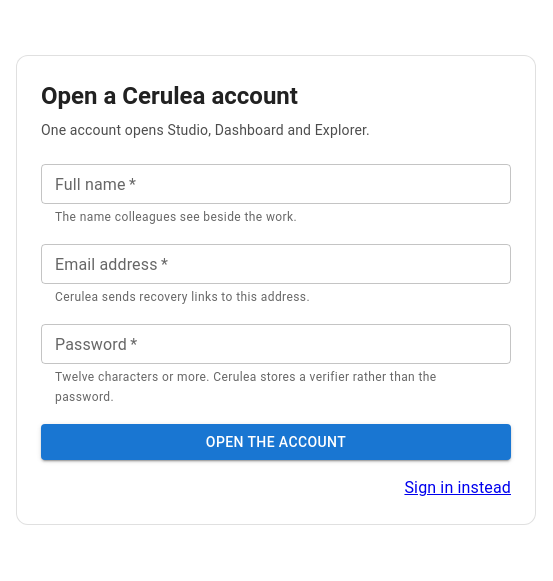
Test case: opening a Cerulea account › sends the three values, then shows the enrolment address and recovery codes
This screenshot has width=553, height=581.
Type "Asha Rao" into the field labelled "Full name *" at point(276, 184), box [41,164,511,204]
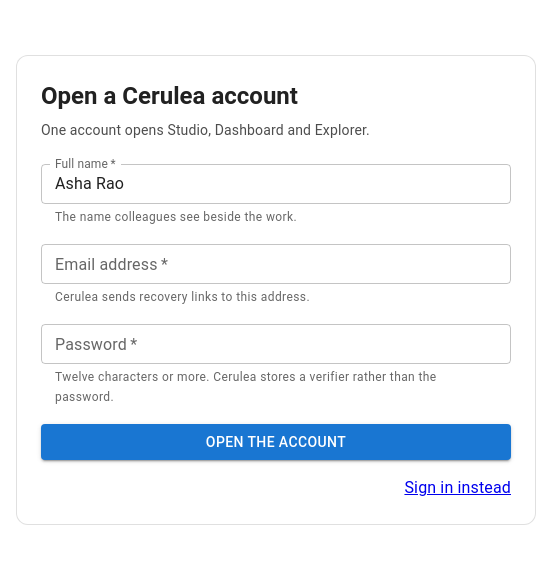
Type "asha@cerulea.test" into the field labelled "Email address *" at point(276, 264), box [41,244,511,284]
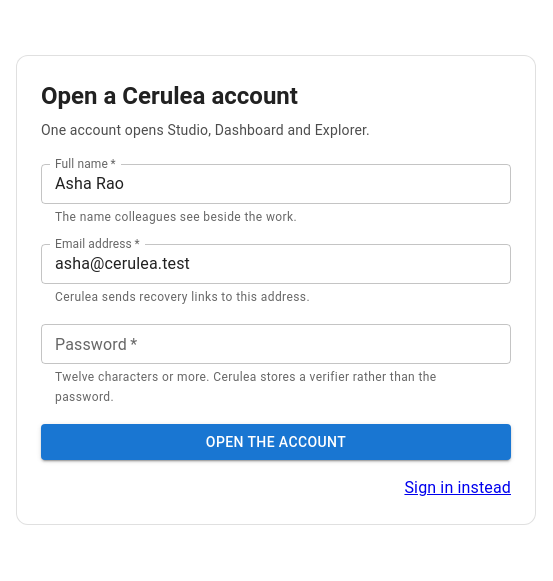
Type "a-long-passphrase" into the password field labelled "Password *" at point(276, 344), box [41,324,511,364]
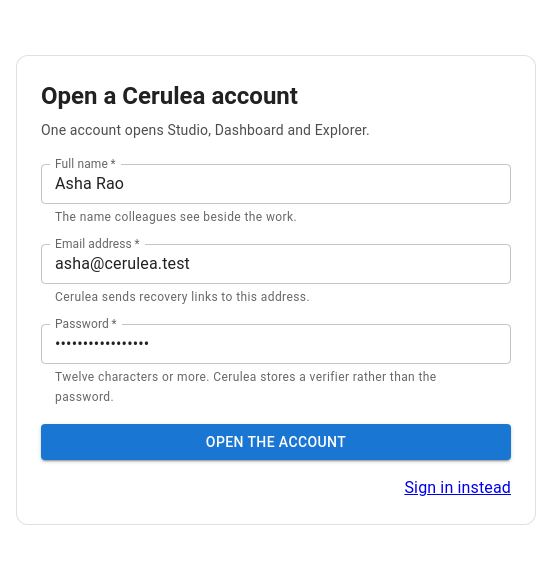
Click the button "Open the account" at point(276, 442), box [41,424,511,460]
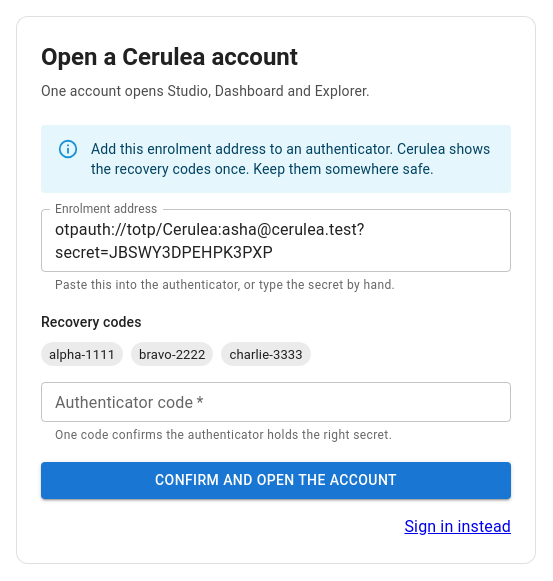
Check: the text box showing "otpauth://totp/Cerulea:asha@cerulea.test?secret=JBSWY3DPEHPK3PXP" is shown, box [55,218,497,264]
Check: the text "alpha-1111" is shown, box [49,346,115,362]
Check: the text "bravo-2222" is shown, box [139,346,206,362]
